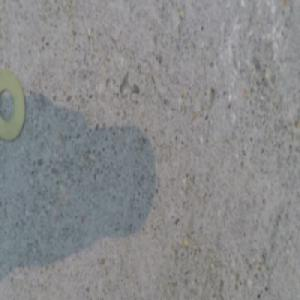Washer: (0, 70, 26, 142)
